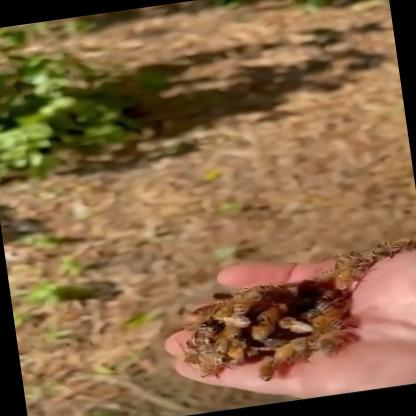bee: (141, 198, 416, 406)
